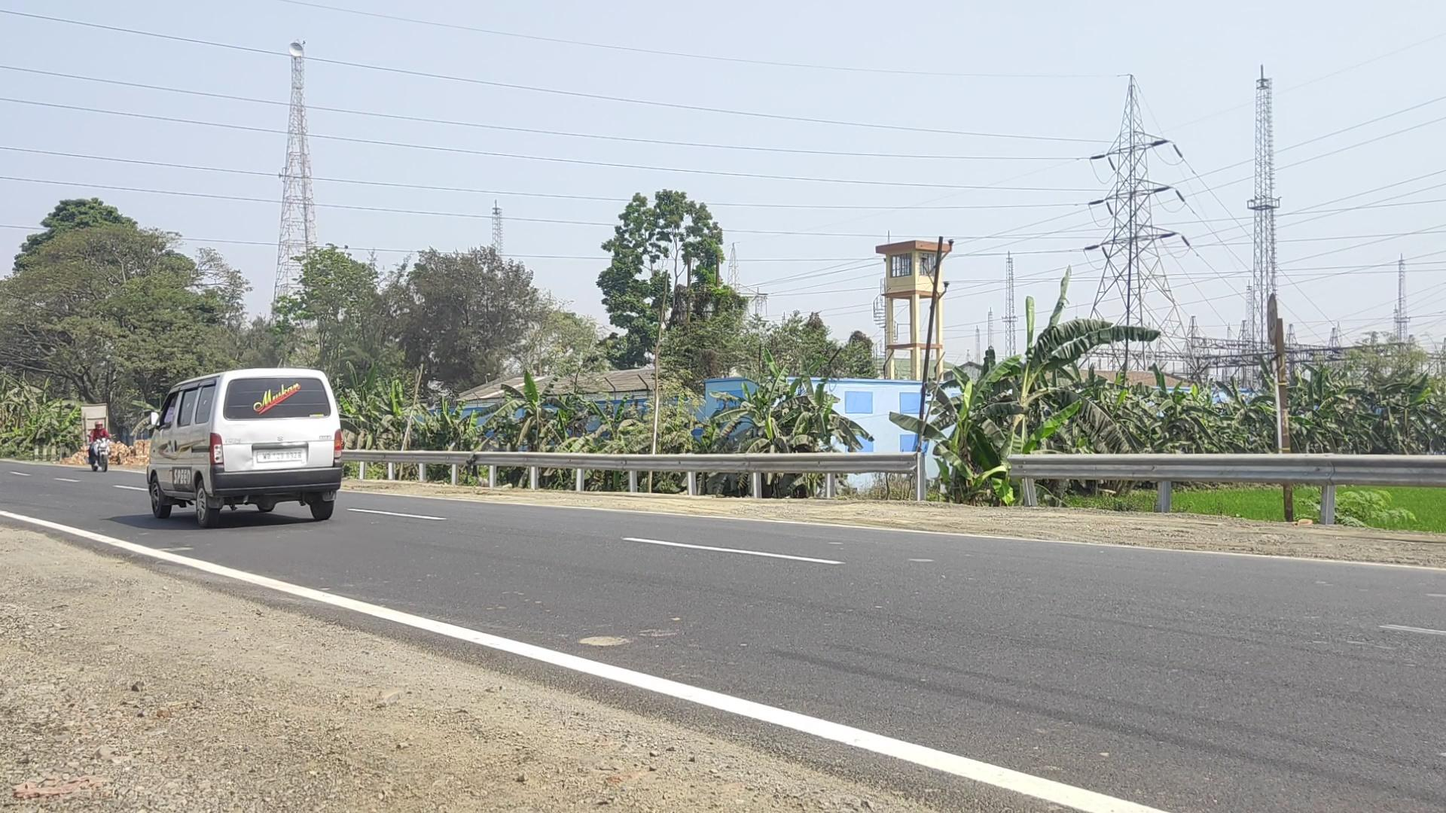bike: (86, 420, 117, 473)
van: (146, 367, 343, 529)
